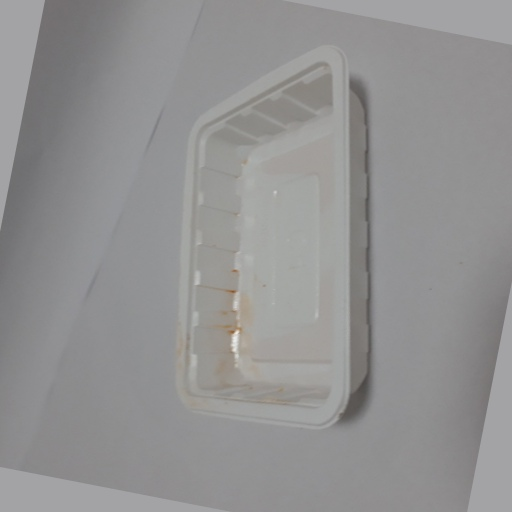Plastic_4: (179, 41, 372, 431)
